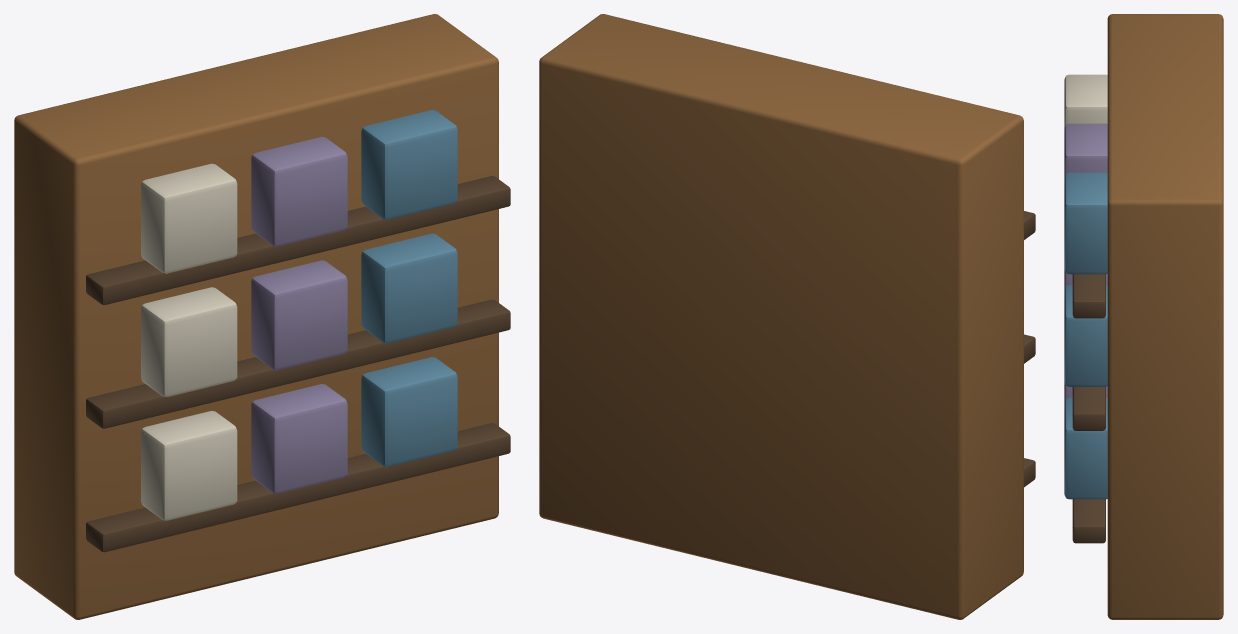
The model's file is bookshelf.glb.
The picture shows the model from 3 angles, left to right: view 1: azimuth 30°, elevation 25°; view 2: azimuth 150°, elevation 25°; view 3: azimuth 270°, elevation 25°; orthographic projection. The views are drawn at different scales.
Parts seen in each view (by area): view 1: bookshelf; view 2: bookshelf; view 3: bookshelf.
Part boxes in pixels (x1=…): bookshelf: x1=14, y1=14, x2=510, y2=619; bookshelf: x1=539, y1=14, x2=1035, y2=619; bookshelf: x1=1064, y1=14, x2=1223, y2=619.
Size of the model in its own units: 2.7 by 2.8 by 0.96.
